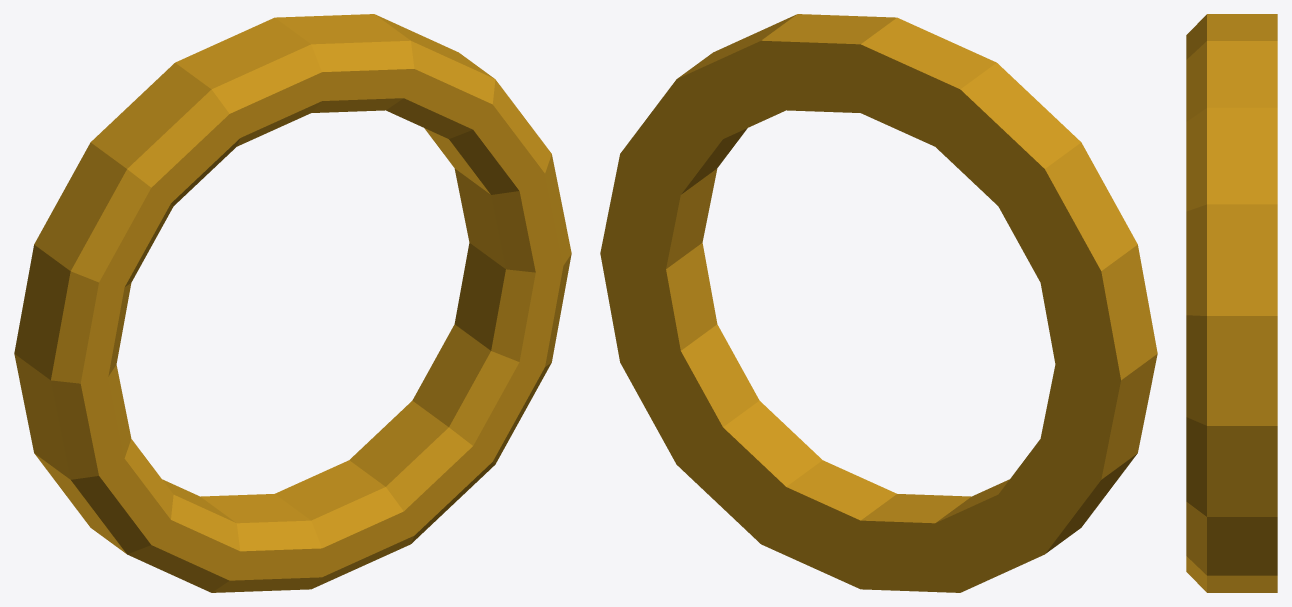
File: Ring_Lamp.obj
3 renders of one model, left to right at view 1: azimuth 30°, elevation 25°; view 2: azimuth 150°, elevation 25°; view 3: azimuth 270°, elevation 25°, orthographic. The views are drawn at different scales.
Parts seen in each view (by area): view 1: Ring_Lamp; view 2: Ring_Lamp; view 3: Ring_Lamp.
Boxes of the visible parts, x1,y1,x2,y2 form: Ring_Lamp: [14, 14, 571, 592]; Ring_Lamp: [600, 14, 1157, 592]; Ring_Lamp: [1186, 14, 1277, 592].
Size of the model in its own units: 0.3528 by 0.3528 by 0.0556.
